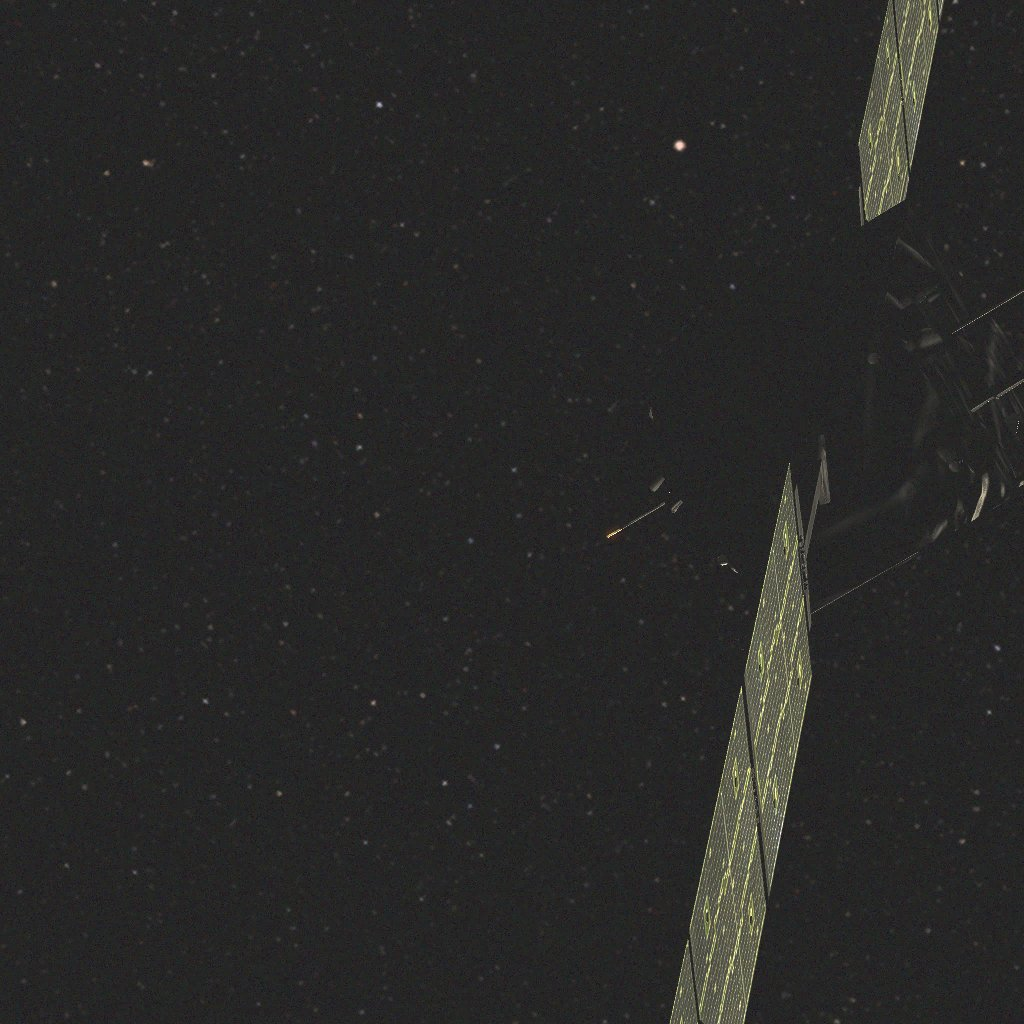smart_1: (606, 0, 1024, 1024)
